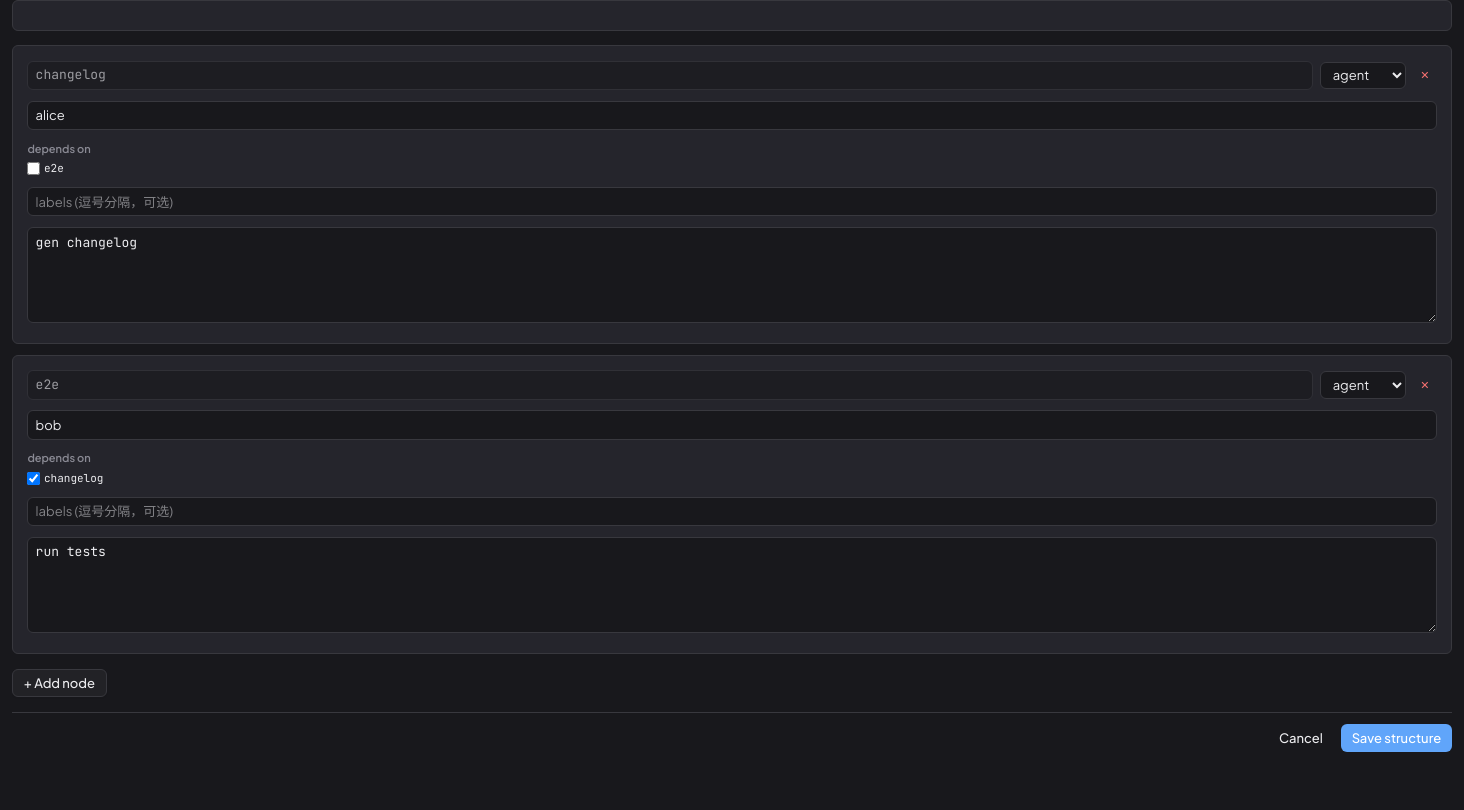
Test: FlowStructureEditor › Save error keeps the rows and surfaces the message
The width and height of the screenshot is (1464, 810).
Click the button with test id "fse-save" at (1396, 738), box [1341,724,1452,752]
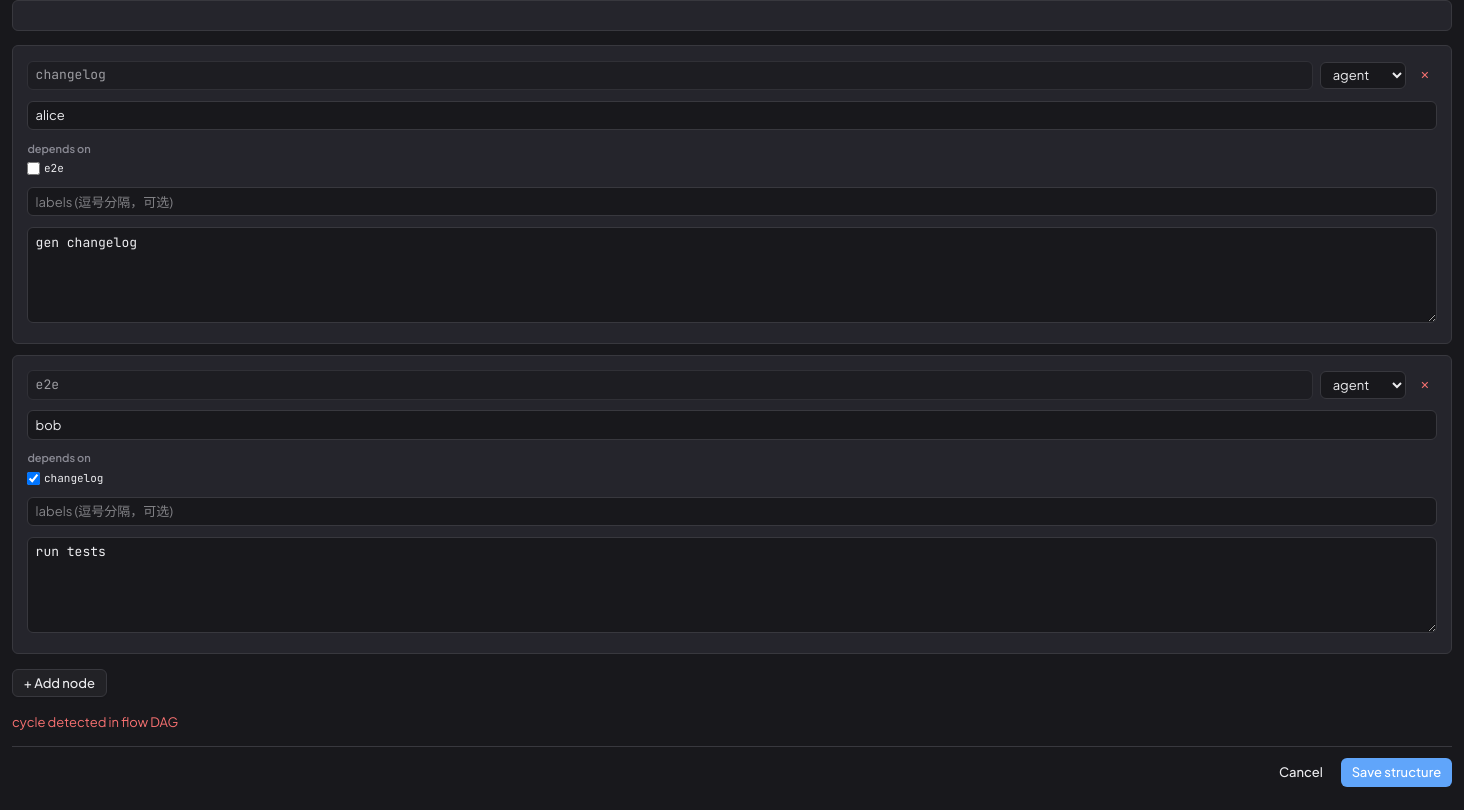
Expected: the text with test id "fse-error" shows "cycle", [12,714,178,730]
